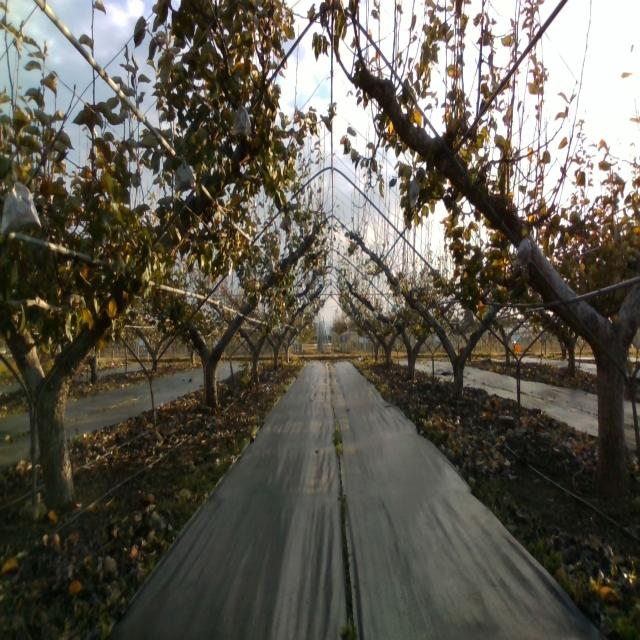pearbags: (0, 174, 42, 238), (230, 98, 252, 136), (174, 155, 195, 193), (262, 248, 278, 278), (515, 238, 532, 266), (408, 178, 422, 208), (463, 305, 476, 332), (279, 210, 293, 235)
